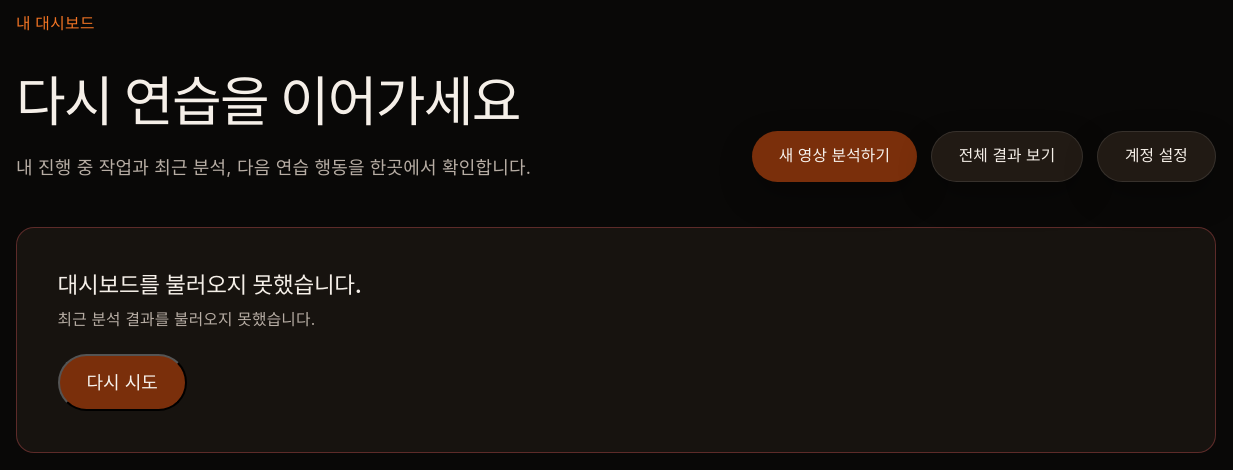
Scenario: HomePage › retries the dashboard request after an initial failure
expect the heading "대시보드를 불러오지 못했습니다." is shown: met, box [58, 271, 362, 298]
Click the button "다시 시도": (122, 383) [58, 354, 187, 411]
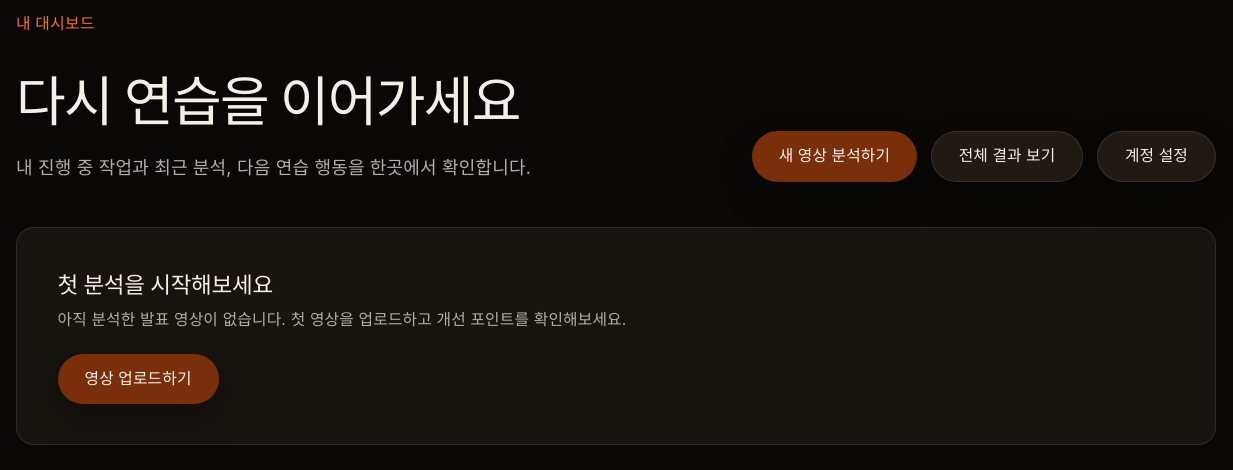
expect the heading "첫 분석을 시작해보세요" is shown: met, box [58, 271, 273, 298]
